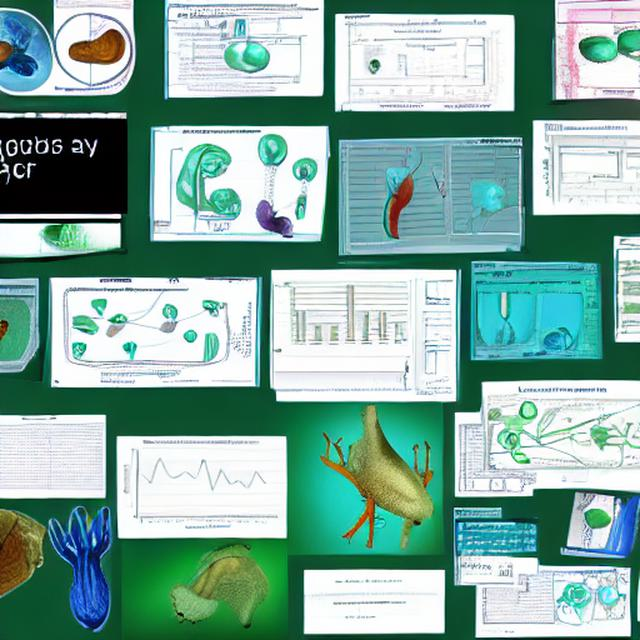Graph: (120, 437, 283, 534), (288, 276, 408, 349), (396, 43, 463, 83), (554, 180, 604, 209)
